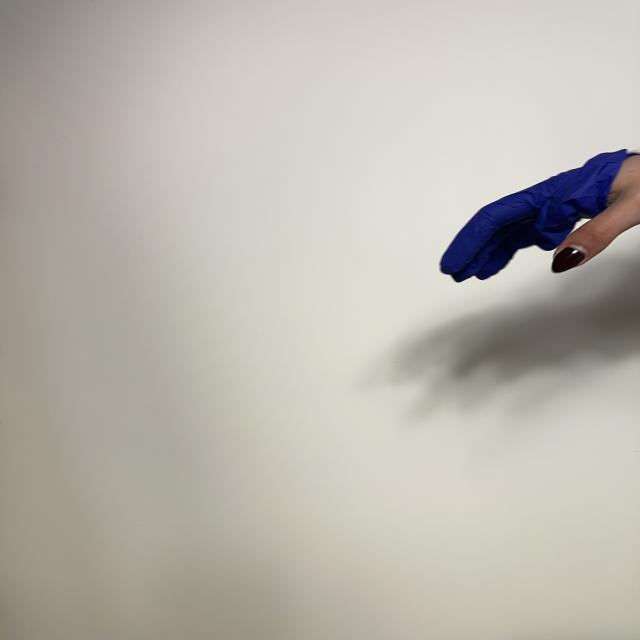glove_partial: (440, 150, 640, 282)
